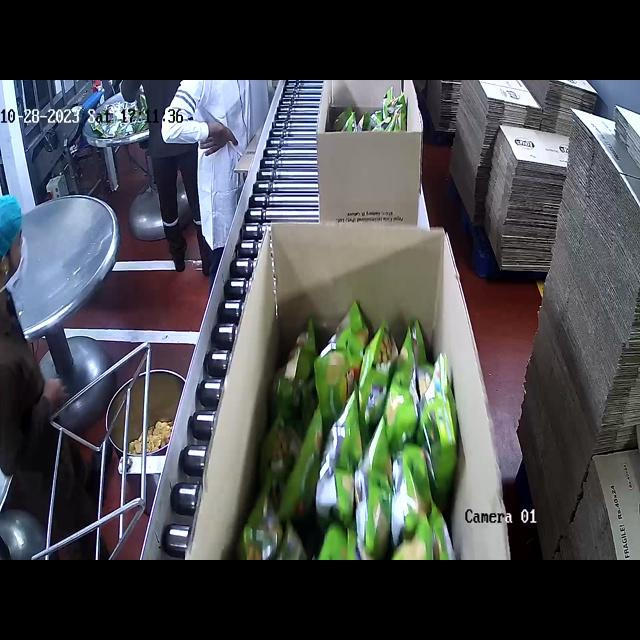yogurt: (240, 300, 460, 558), (335, 105, 416, 143)
